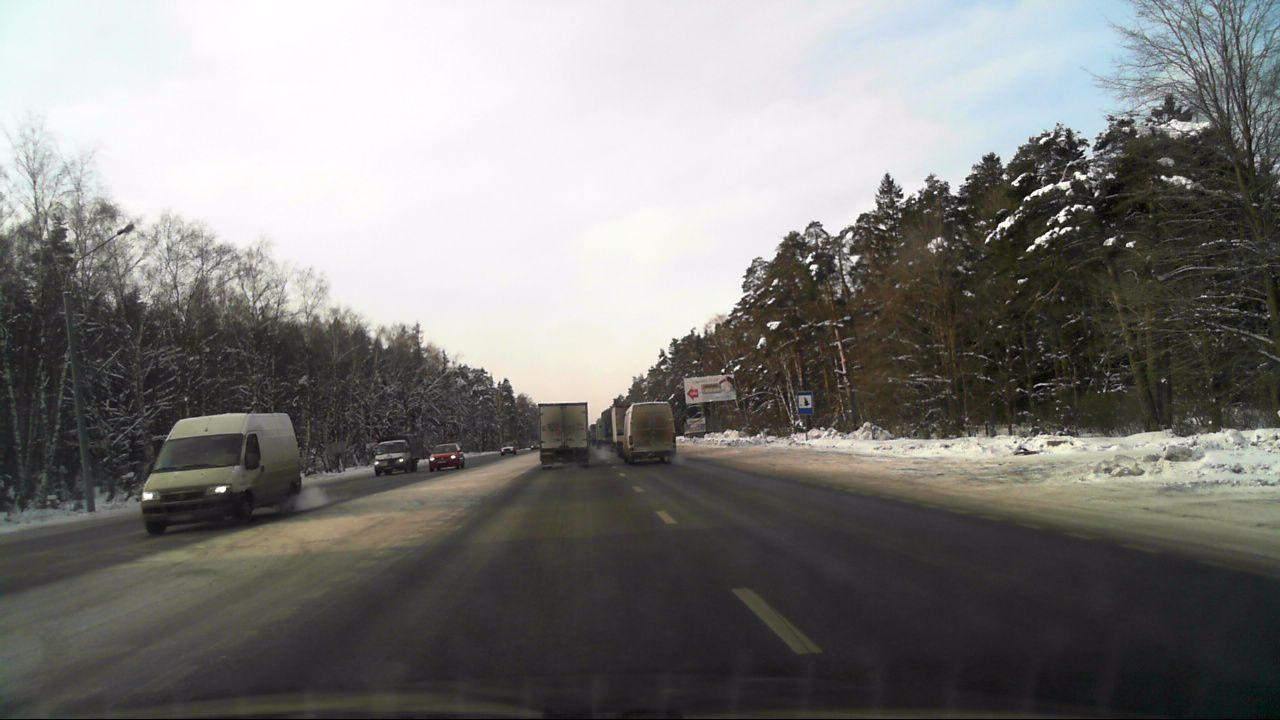7_11: (797, 390, 814, 413)
